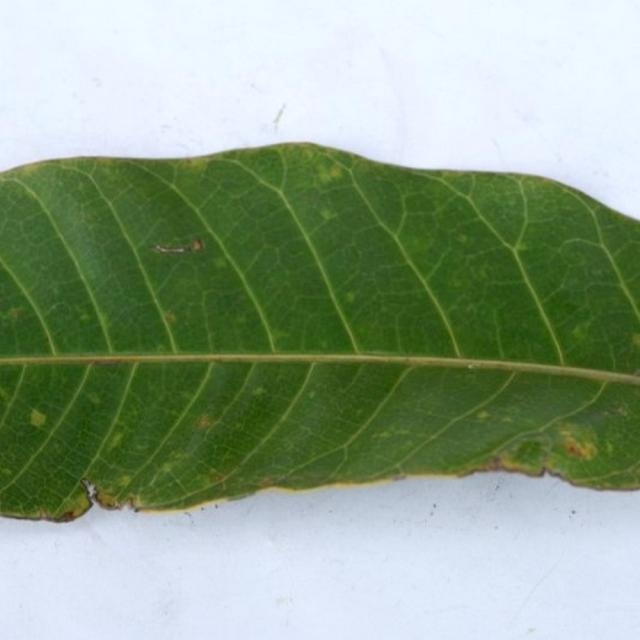Mango: (0, 144, 639, 519)
Powdery_Mildew: (490, 448, 546, 474), (557, 425, 595, 458), (89, 482, 132, 510), (22, 402, 51, 434), (58, 496, 94, 521), (151, 238, 203, 254), (512, 439, 544, 463), (570, 321, 592, 342), (559, 301, 581, 316), (269, 327, 290, 342), (5, 306, 26, 320), (324, 164, 343, 179), (195, 414, 213, 429), (255, 476, 279, 487), (108, 432, 124, 448), (159, 461, 176, 474), (212, 256, 229, 269), (319, 206, 335, 219), (86, 391, 101, 404), (163, 311, 176, 324), (211, 471, 225, 483), (513, 242, 528, 253), (344, 291, 356, 304), (119, 474, 132, 486), (78, 311, 91, 322), (252, 386, 266, 396), (376, 430, 393, 438), (476, 410, 489, 420), (456, 233, 469, 243), (466, 362, 478, 370), (634, 333, 640, 348), (308, 390, 316, 398)
